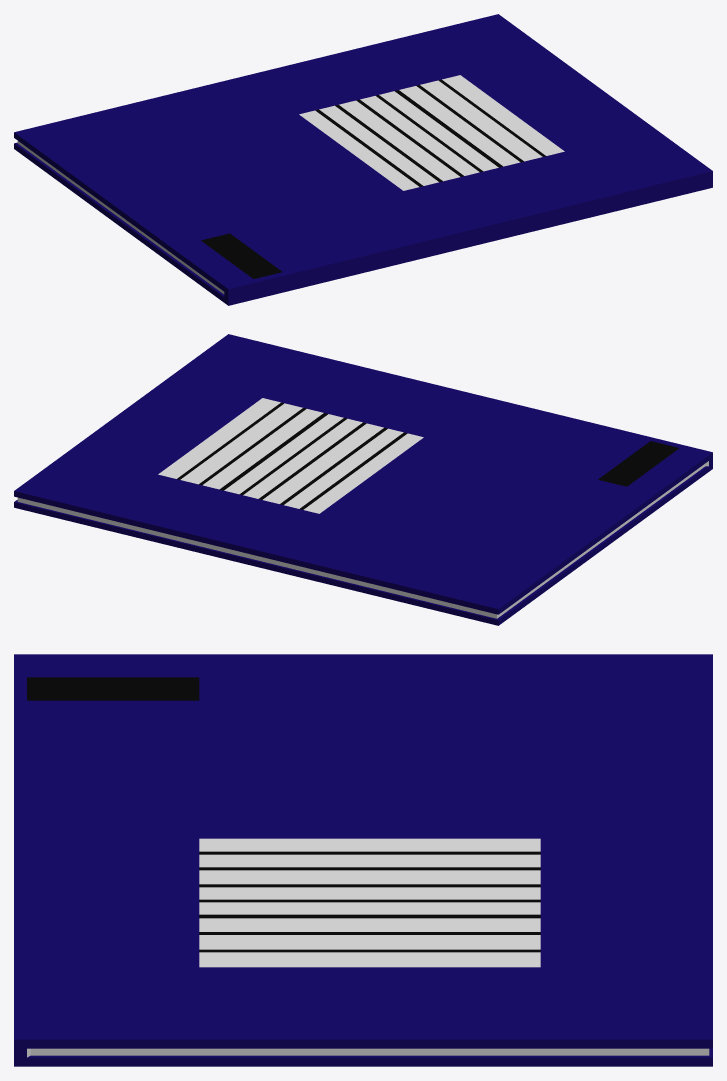
Rendered from book3.fbx.
3 views of the same model, one above another, from view 1: azimuth 30°, elevation 25°; view 2: azimuth 150°, elevation 25°; view 3: azimuth 270°, elevation 25° (orthographic). The views are drawn at different scales.
Visible parts, largest first — view 1: Куб; view 2: Куб; view 3: Куб.
Boxes of the visible parts, <box> form: Куб: <box>14,14,712,305</box>; Куб: <box>14,334,712,625</box>; Куб: <box>14,654,712,1066</box>.
Bounding box in the file's own units: 85.26 × 2.8 × 65.36.
